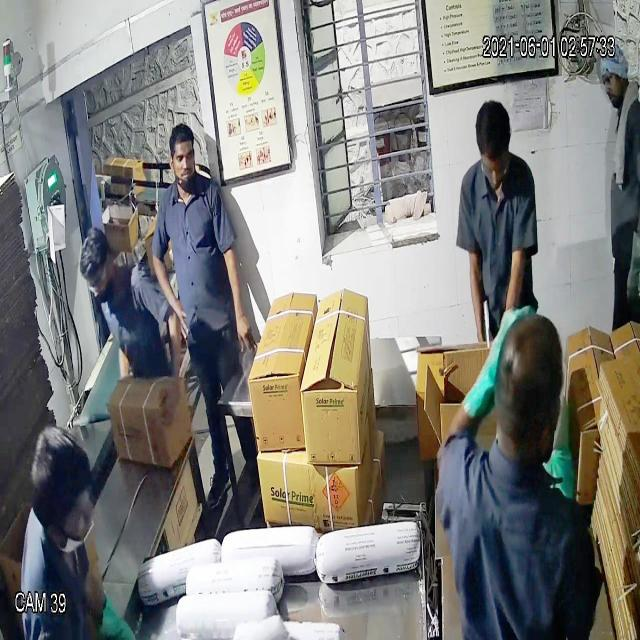glasses: (477, 149, 511, 192)
